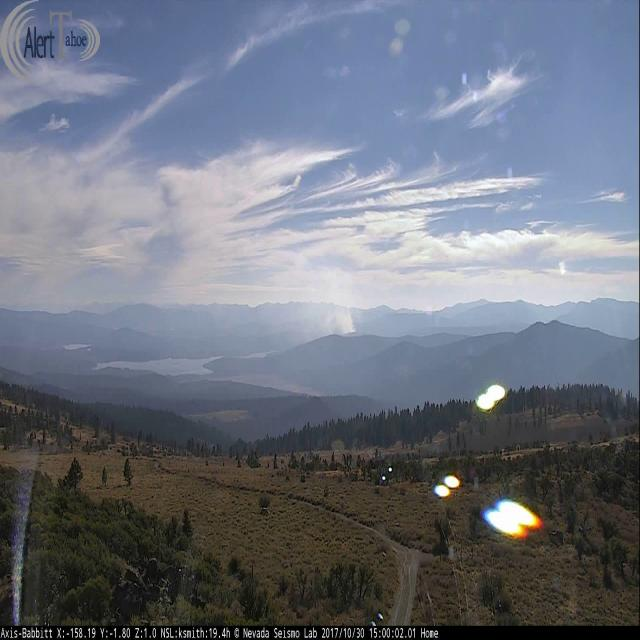smoke: (241, 255, 354, 341)
